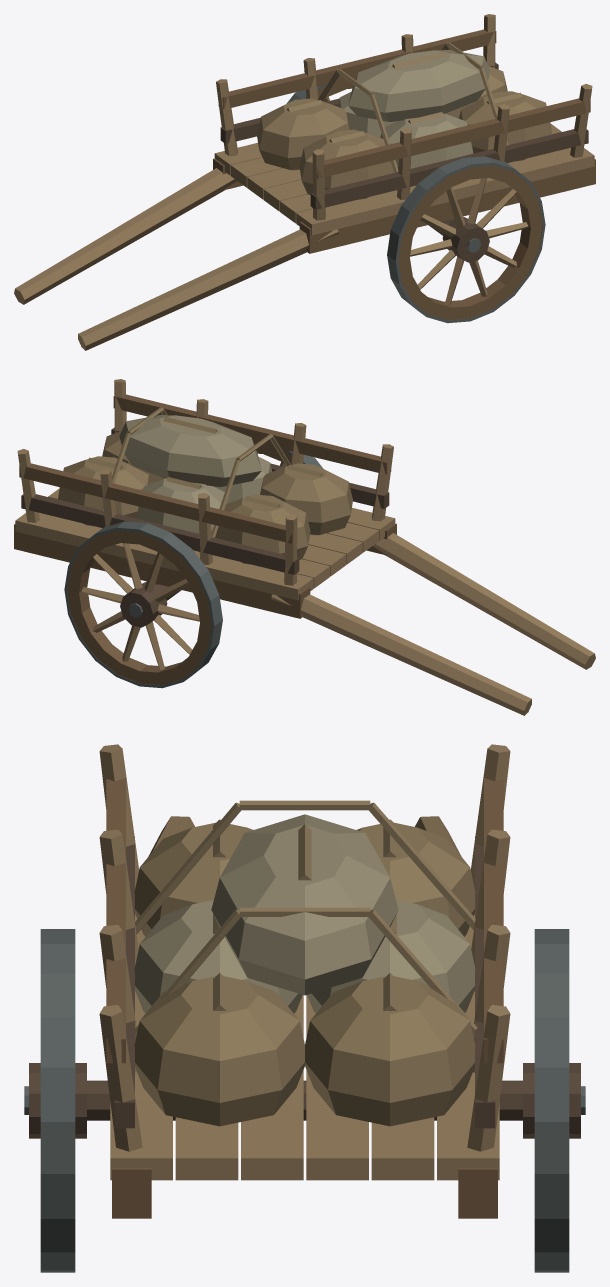
File: grain_cart.gltf
3 views of the same model, one above another, from view 1: azimuth 30°, elevation 25°; view 2: azimuth 150°, elevation 25°; view 3: azimuth 270°, elevation 25° (orthographic). The views are drawn at different scales.
Visible parts, largest first — view 1: GrainCart; view 2: GrainCart; view 3: GrainCart.
Part boxes in pixels (box(x1,y1,x2,y2)): GrainCart: box(14, 14, 595, 350); GrainCart: box(14, 379, 595, 715); GrainCart: box(24, 744, 585, 1272).
Size of the model in its own units: 4.06 by 1.64 by 1.98.
